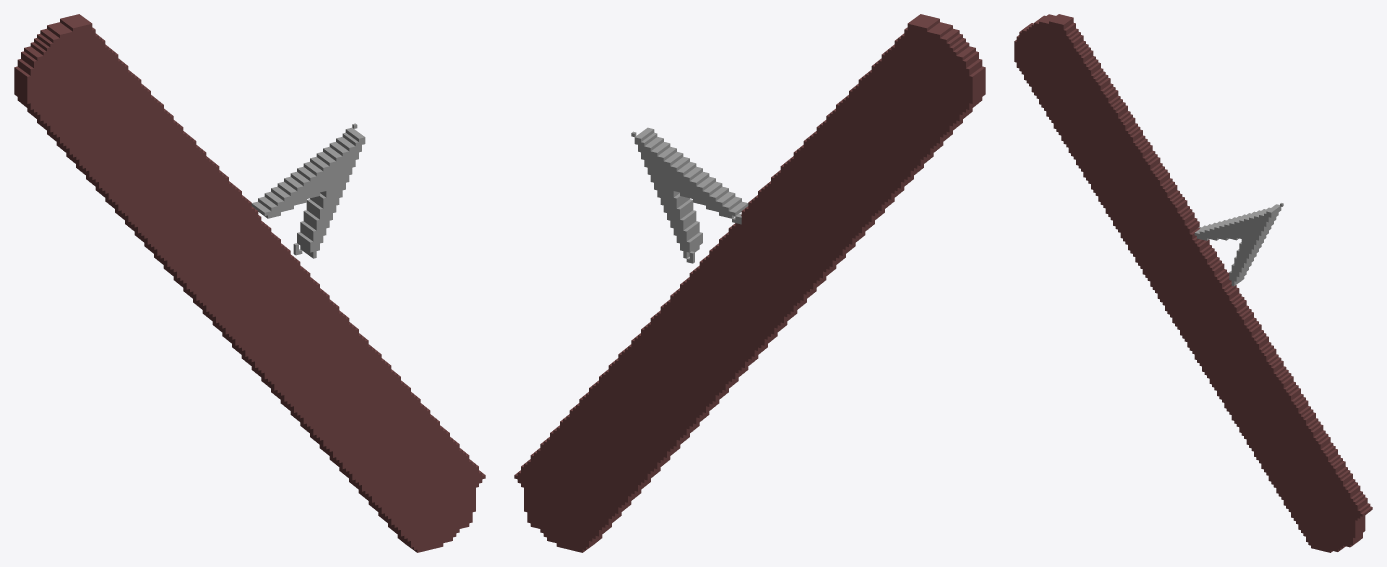
File: espina.obj
The picture shows the model from 3 angles, left to right: view 1: azimuth 30°, elevation 25°; view 2: azimuth 150°, elevation 25°; view 3: azimuth 330°, elevation 25°; orthographic projection. The views are drawn at different scales.
Size of the model in its own units: 14.1 by 17.9 by 0.7.
Materials: 1 (1 with a texture image).
